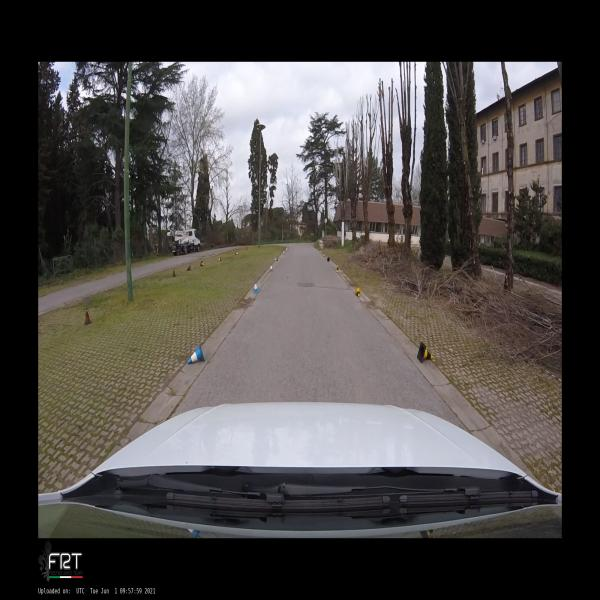blue_cone: (187, 342, 205, 364), (253, 282, 259, 293), (270, 264, 273, 272), (274, 257, 278, 261), (283, 251, 284, 255), (286, 247, 287, 251)
unknown_cone: (84, 308, 92, 324), (172, 268, 177, 277), (84, 298, 89, 306), (200, 261, 205, 266), (186, 266, 191, 270), (218, 257, 221, 261), (327, 258, 330, 261), (236, 251, 238, 255), (246, 248, 248, 251)
yellow_cone: (417, 342, 434, 364), (355, 287, 361, 297), (336, 265, 340, 273), (322, 251, 324, 255), (319, 249, 320, 252)
